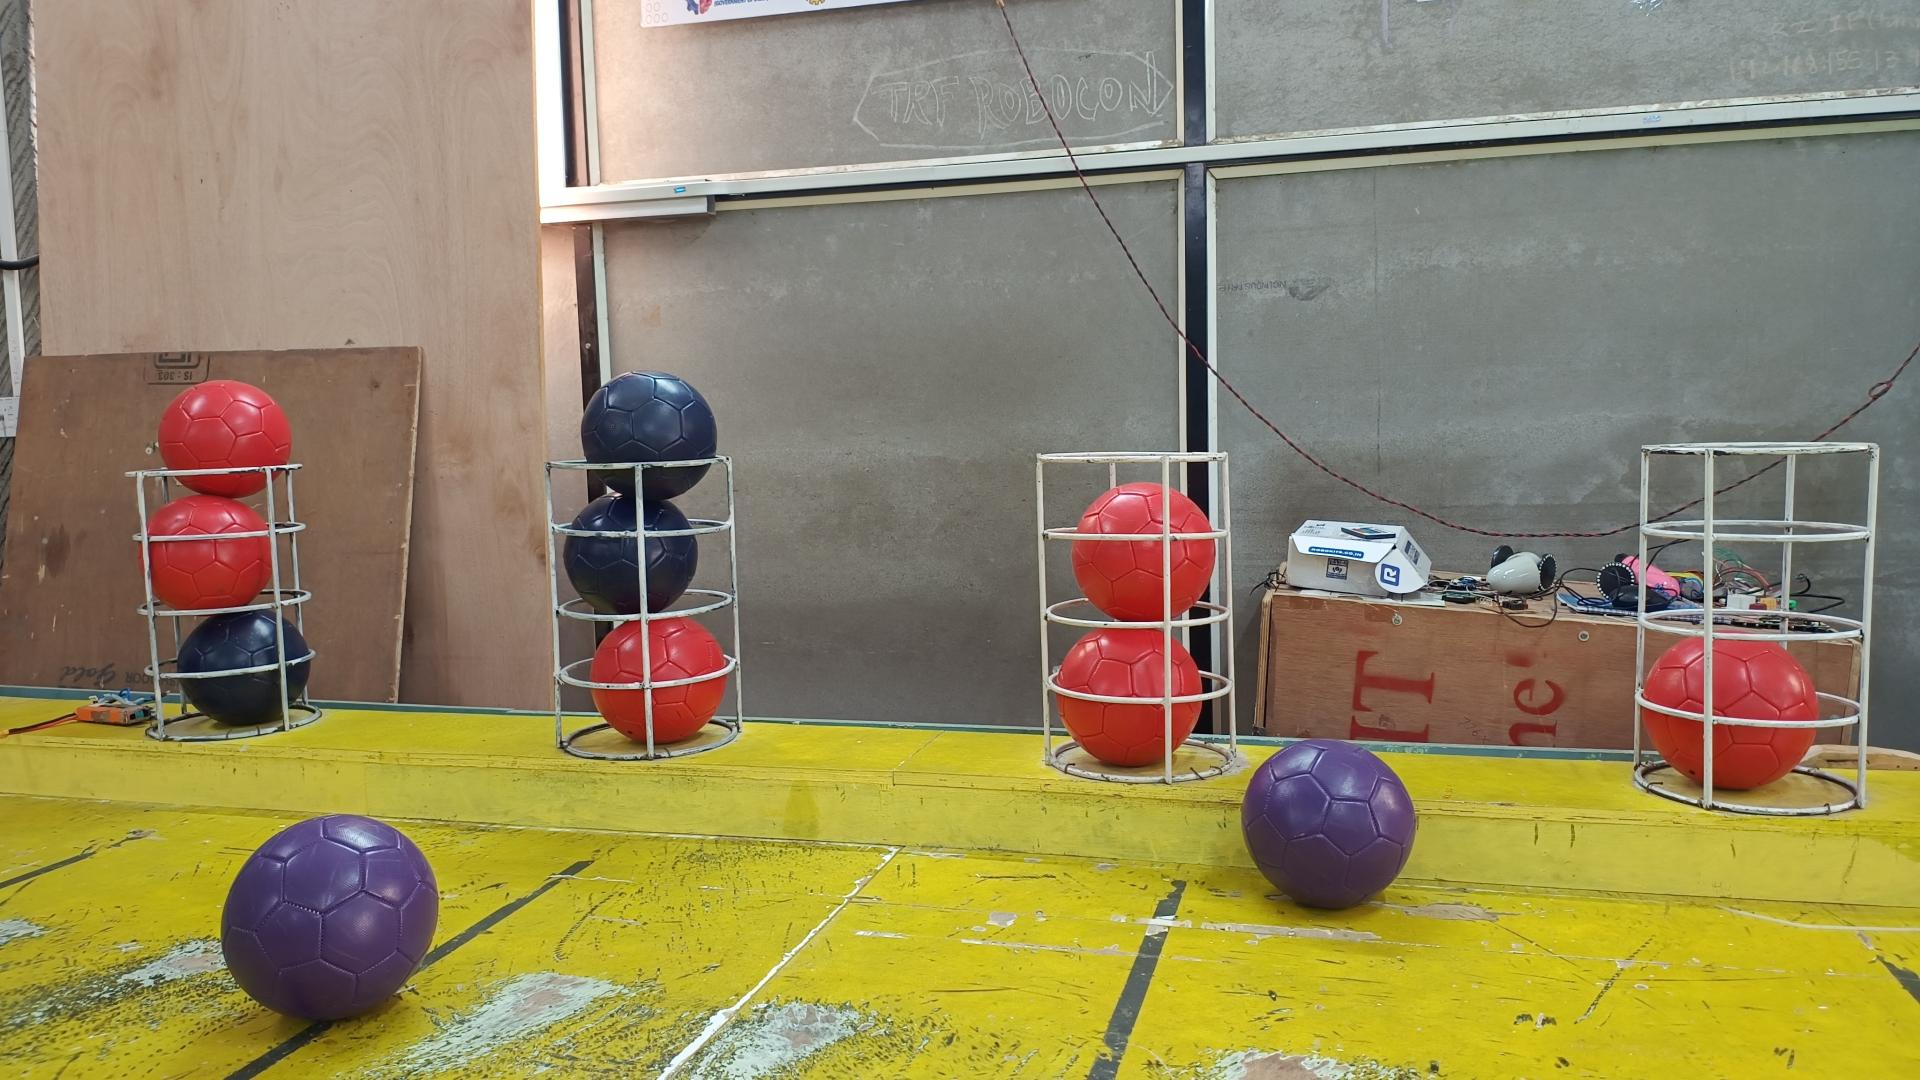dhoka: (582, 372, 716, 502), (563, 495, 698, 615), (177, 612, 311, 728)
laale: (1643, 637, 1818, 791), (1054, 626, 1204, 769), (1072, 480, 1215, 622), (588, 615, 728, 742), (135, 495, 274, 612), (157, 378, 293, 498)
